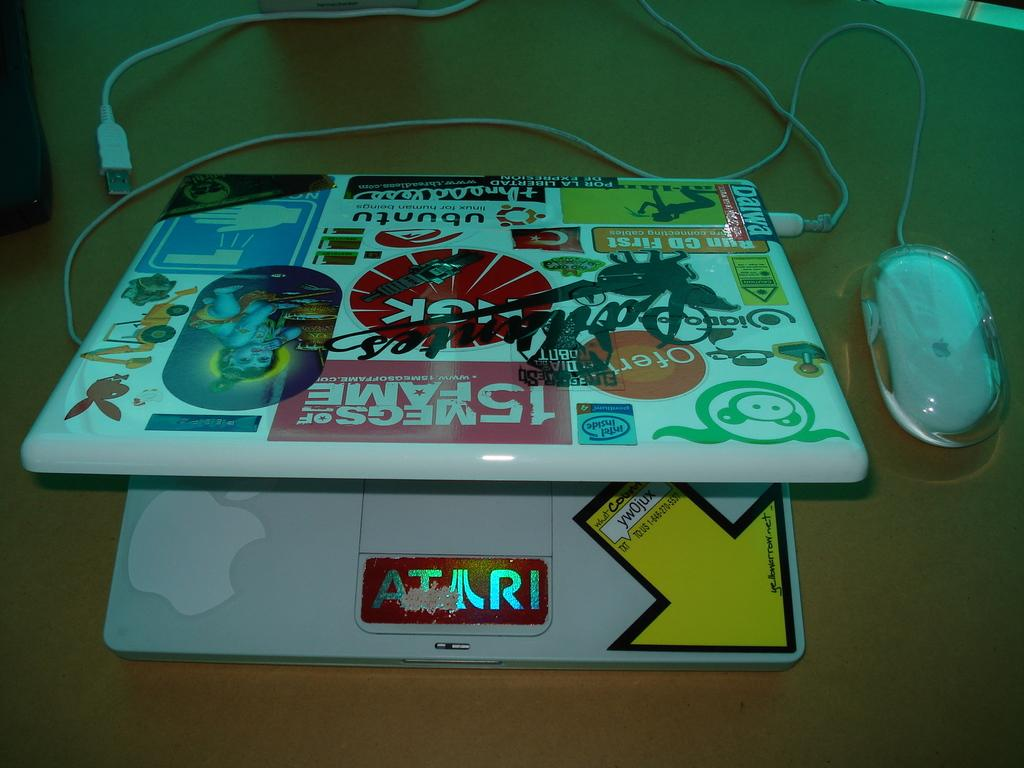Computer-mouse: (864, 237, 1011, 445)
